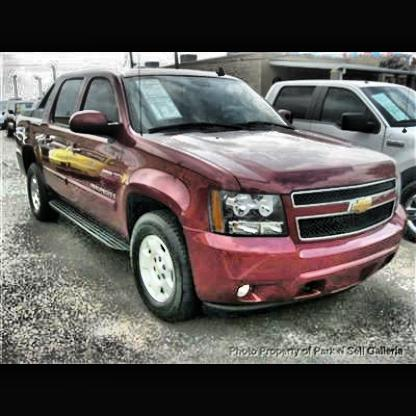Chevrolet Avalanche Crew Cab 2012: (12, 64, 412, 329)
